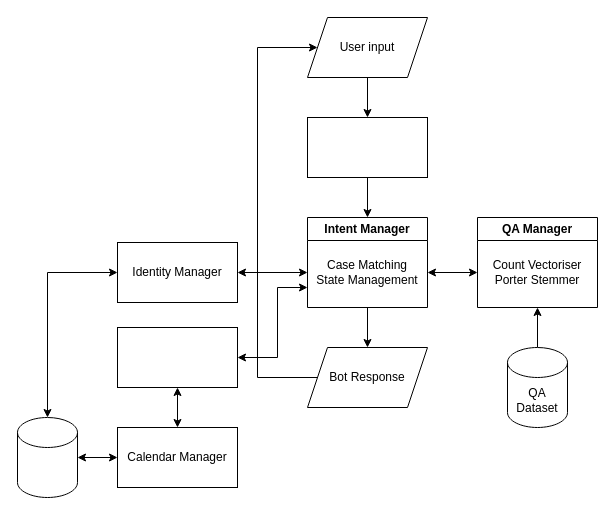
The diagram is 615 pixels wide and 515 high, and some of its shapes have lost their labels. Each missing label, with the centre of its shape:
"Input preprocessor" belongs at (x=367, y=147).
"Transaction Dialogue Handlers" belongs at (x=177, y=357).
"User Database" belongs at (x=47, y=457).
